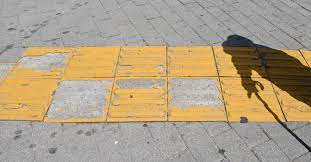guide_blocks: (1, 47, 311, 121)
